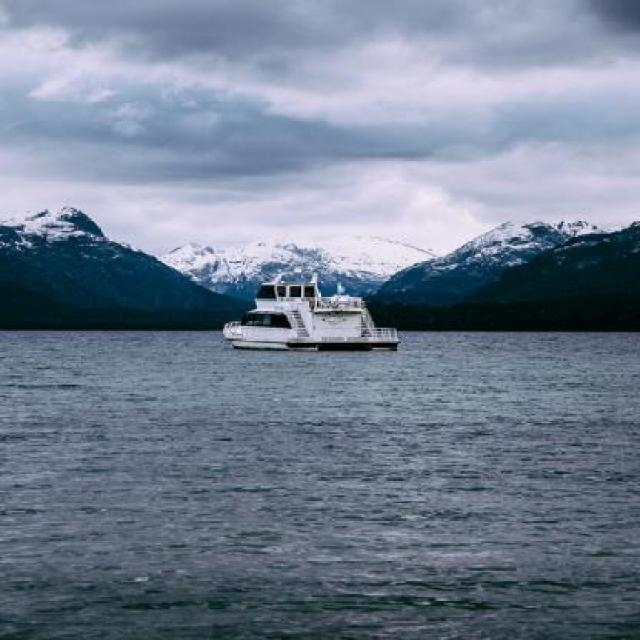ship: (222, 269, 403, 349)
